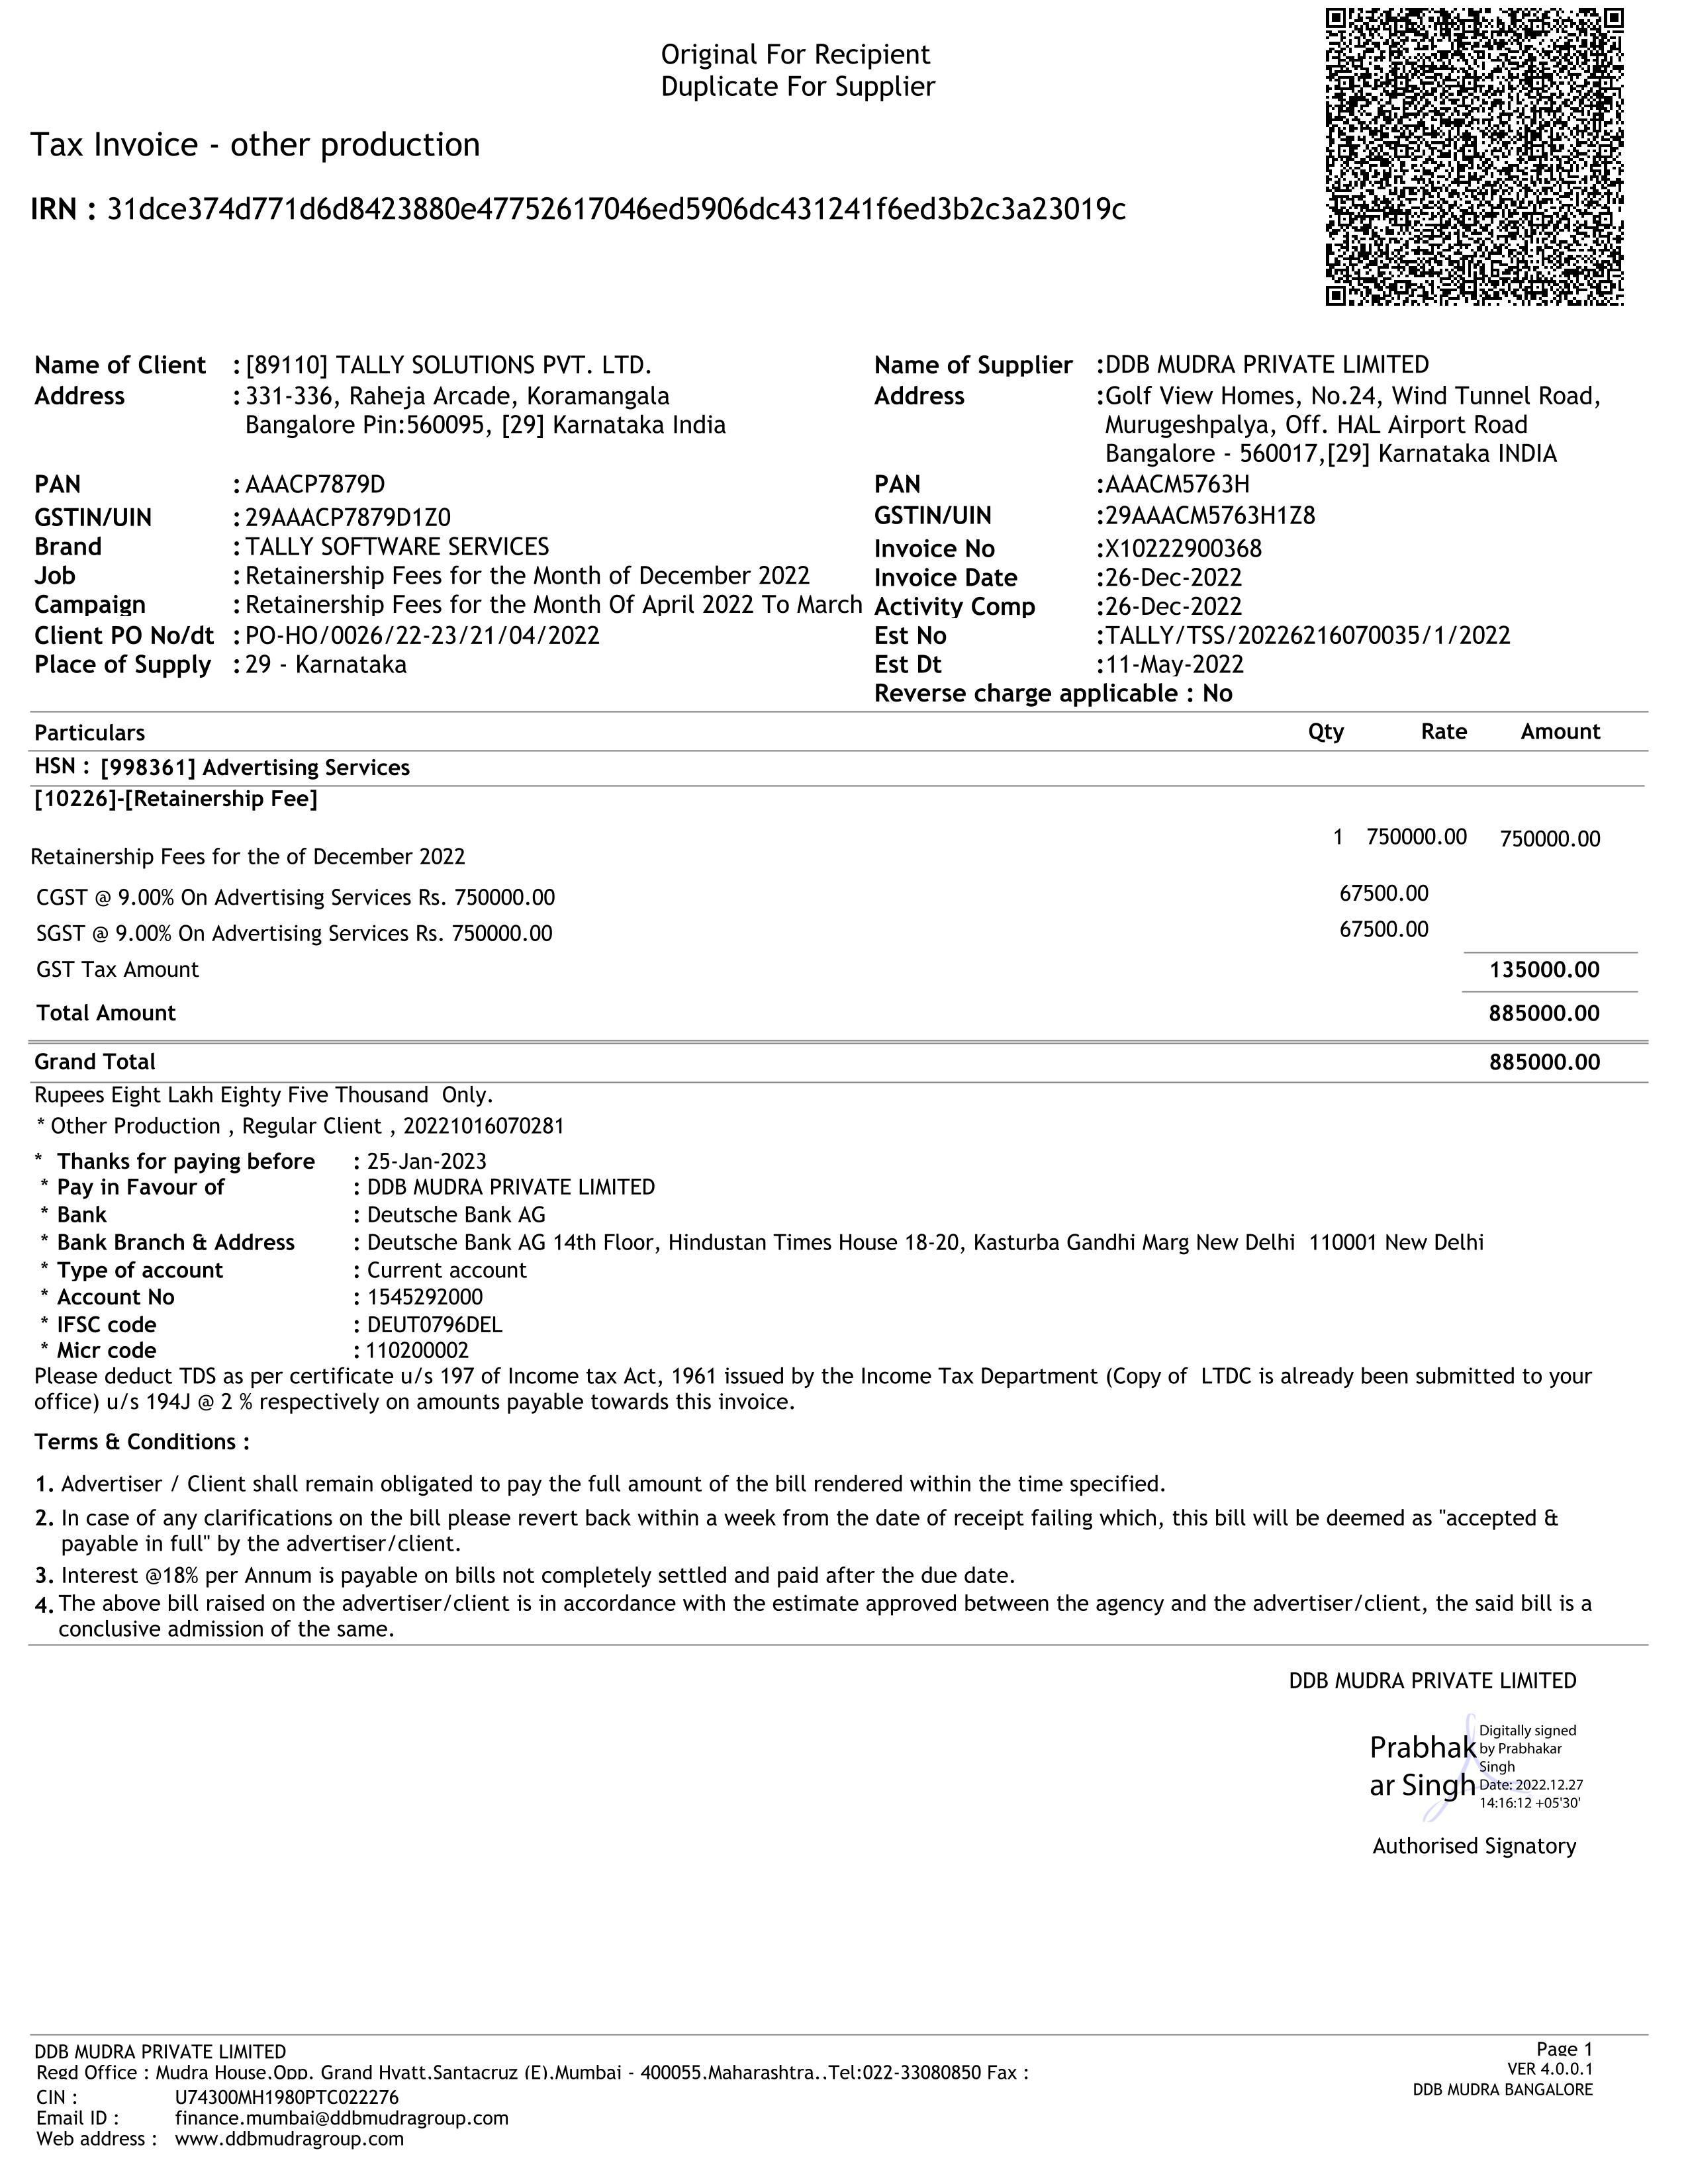InvoiceDate: (1105, 562, 1245, 590)
InvoiceNumber: (1103, 535, 1266, 558)
TotalAmount: (1489, 1051, 1603, 1076)
